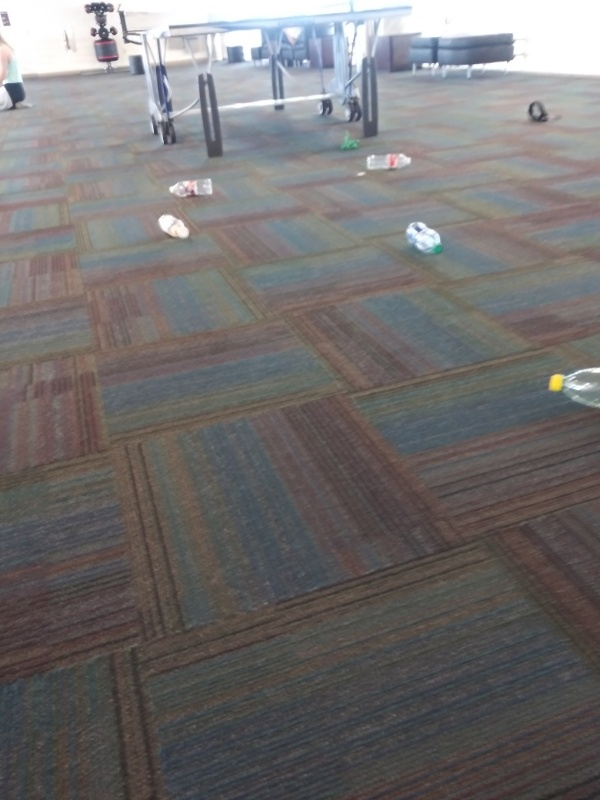bottle: (545, 363, 600, 416), (401, 218, 446, 257), (163, 174, 217, 201), (362, 149, 415, 173), (156, 209, 189, 242)
